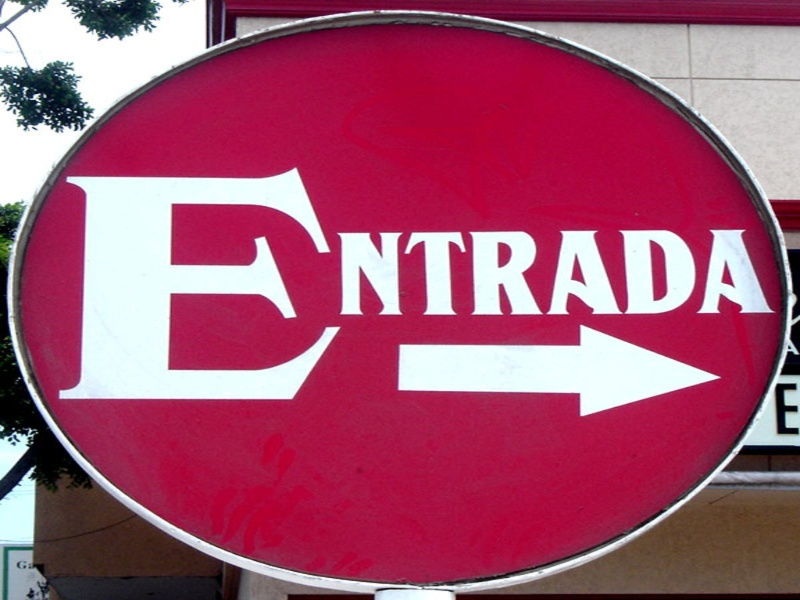entrance: (35, 38, 800, 557)
